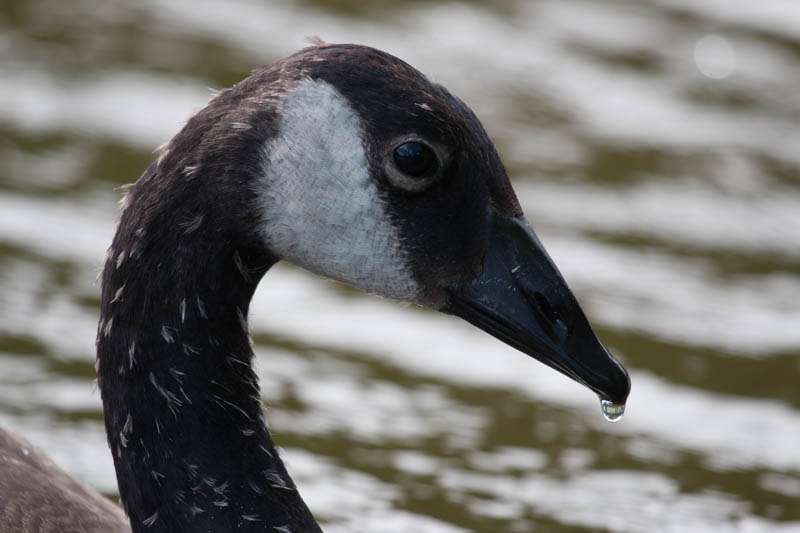goose-head: (171, 44, 630, 407)
